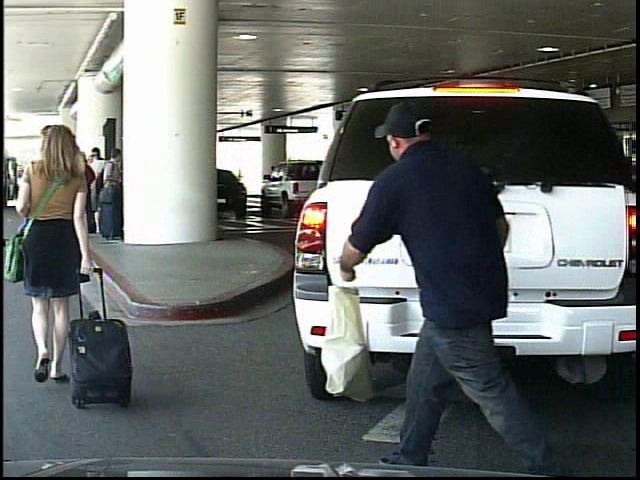person: (348, 80, 528, 471), (4, 122, 109, 415)
